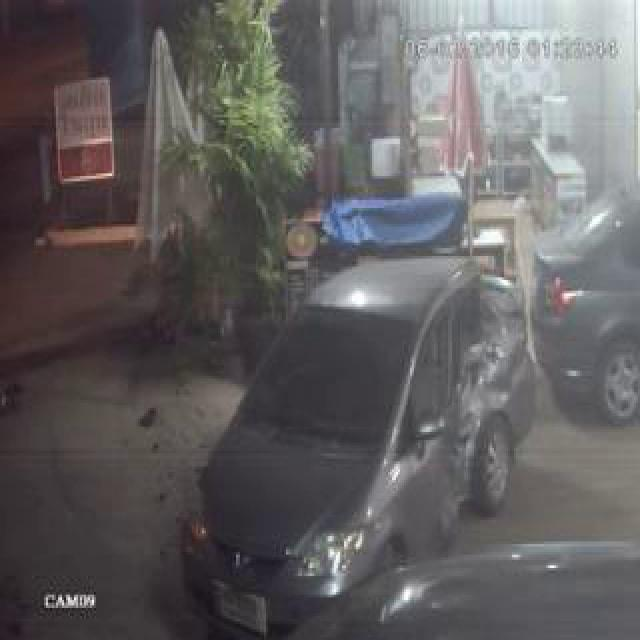road accidents: (233, 19, 640, 640)
